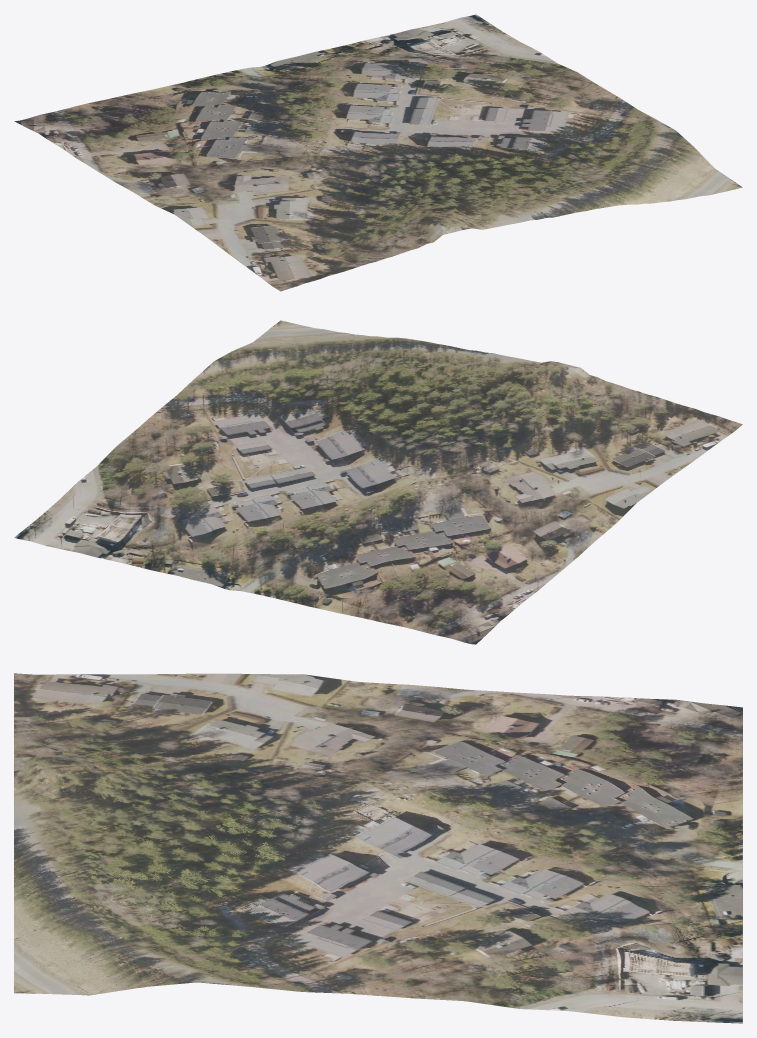
Rendered from CM_Terrain_24491073_6817951.fbx.
3 renders of one model, top to bottom at view 1: azimuth 30°, elevation 25°; view 2: azimuth 150°, elevation 25°; view 3: azimuth 270°, elevation 25°, orthographic. The views are drawn at different scales.
Visible parts, largest first — view 1: CM_Terrain_24491073_6817951_LOD0; view 2: CM_Terrain_24491073_6817951_LOD0; view 3: CM_Terrain_24491073_6817951_LOD0.
Boxes of the visible parts, x1,y1,x2,y2 form: CM_Terrain_24491073_6817951_LOD0: [14, 14, 742, 291]; CM_Terrain_24491073_6817951_LOD0: [14, 320, 742, 644]; CM_Terrain_24491073_6817951_LOD0: [14, 673, 742, 1023].
Size of what is drawn, in the model's own units: 205 by 22.14 by 205.
